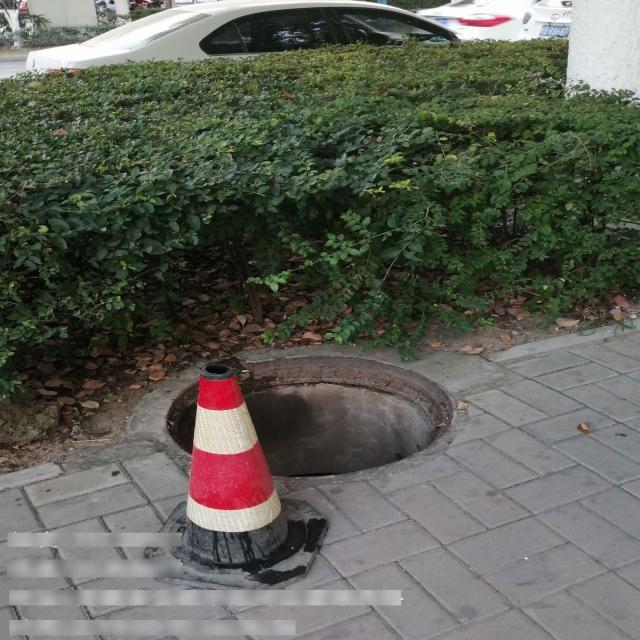Faulty: (162, 355, 454, 479)
